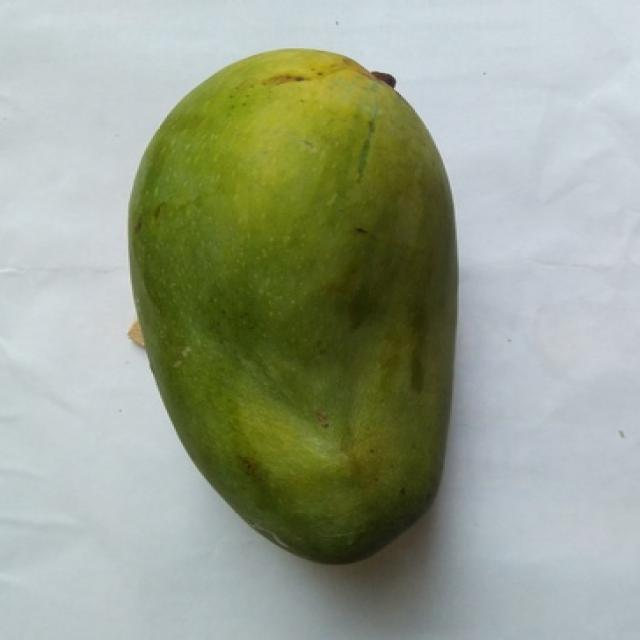Mango: (128, 50, 455, 562)
